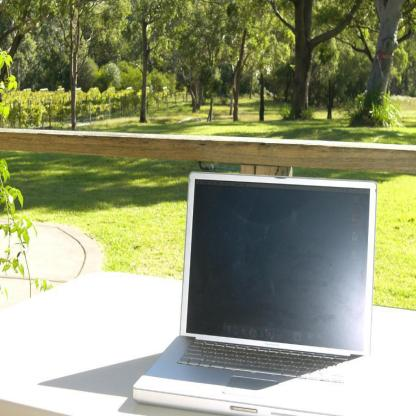board: (133, 159, 378, 415)
